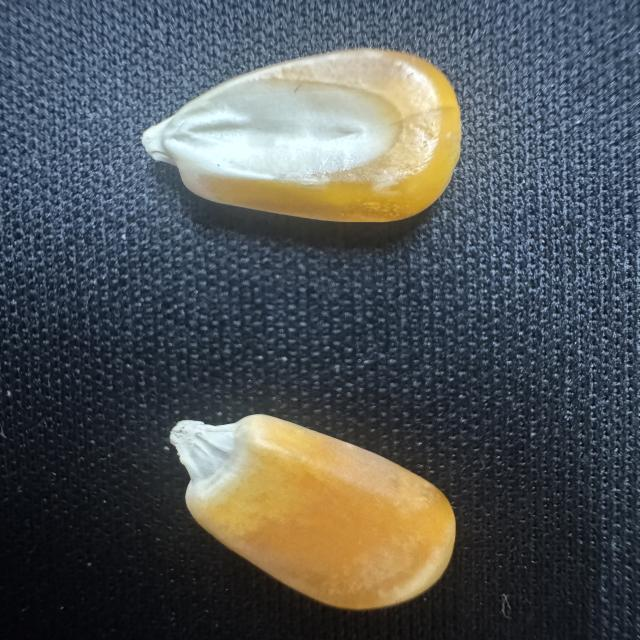Good-Seed: (162, 409, 463, 614), (138, 41, 466, 228)
